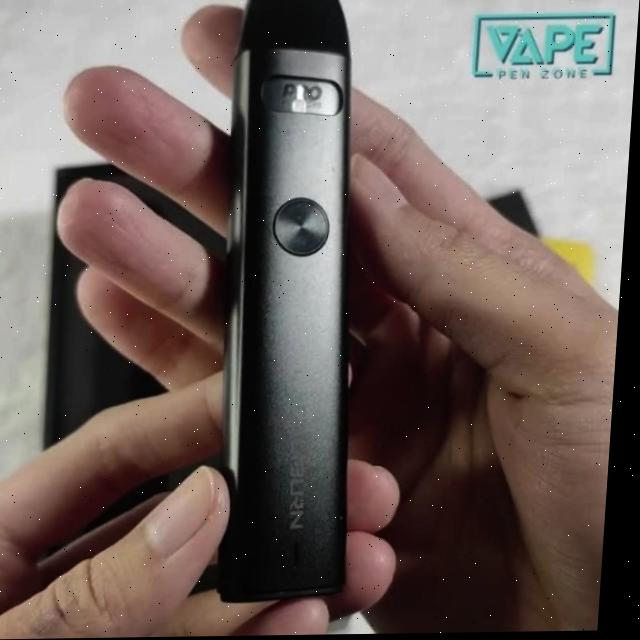vape: (212, 0, 385, 597)
